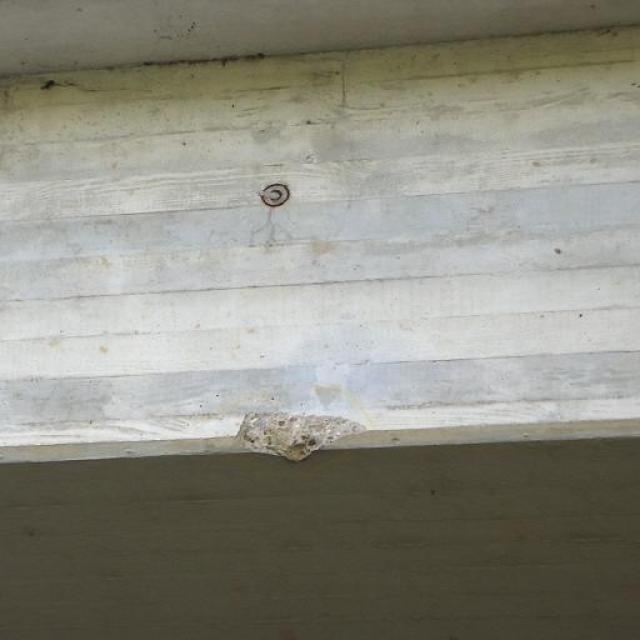D10: (238, 412, 365, 461)
